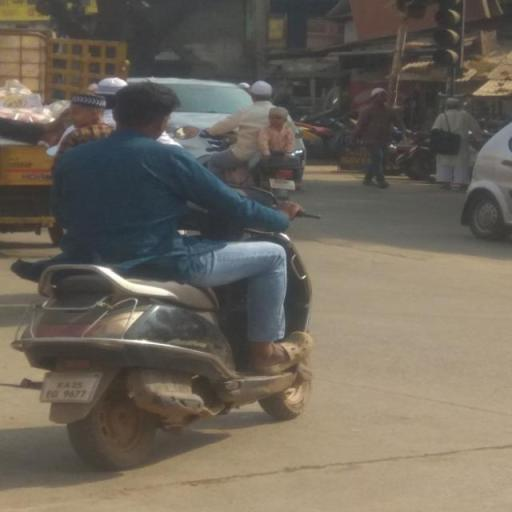bike: (8, 80, 317, 432)
numberplate: (40, 368, 101, 410)
withouthelmet: (116, 84, 172, 134)
